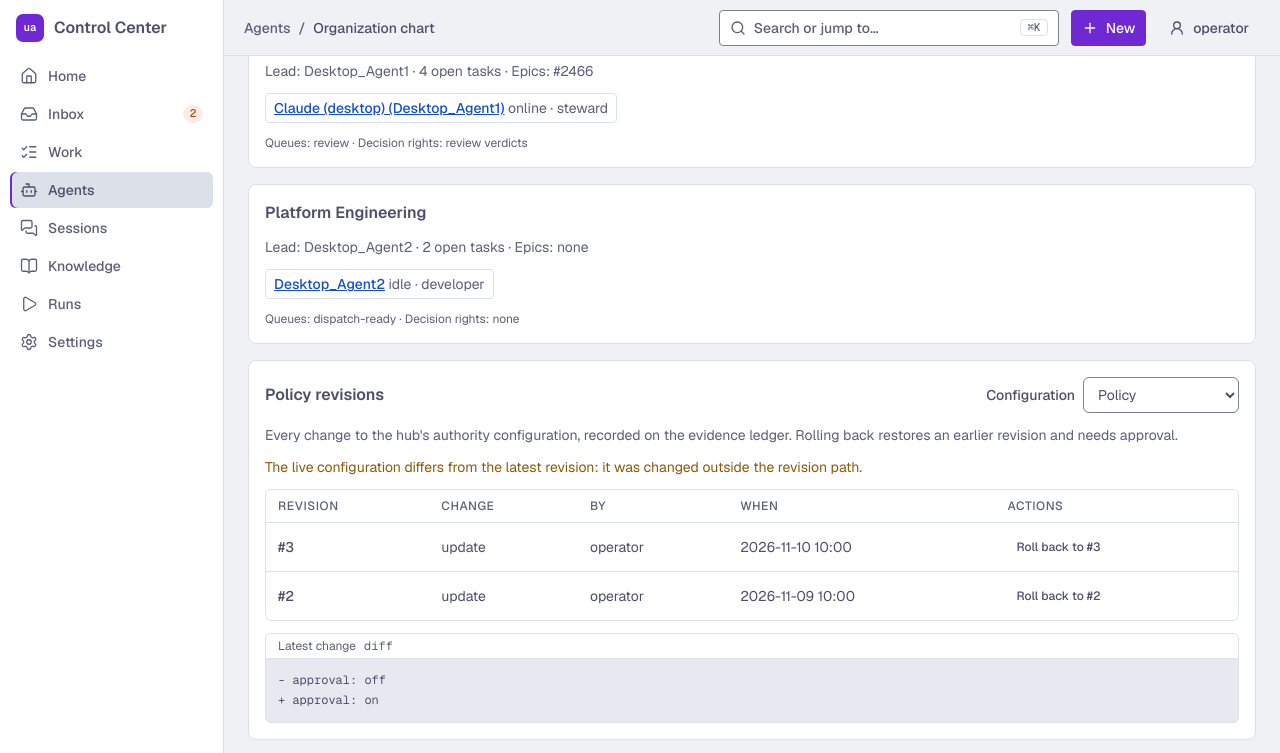
org: policy revisions › lists revisions with drift and the latest change, and rolls back only after a confirm; a parked rollback is waiting
(page scrolled)
Expected: the table named "Policy revisions" shows "#3", [266,490,1238,620]
Expected: the text "live configuration differs from the latest revision" is shown, [265,458,862,476]
Click the button "Roll back to #2".
click(1059, 596)  # box [1008,582,1110,610]
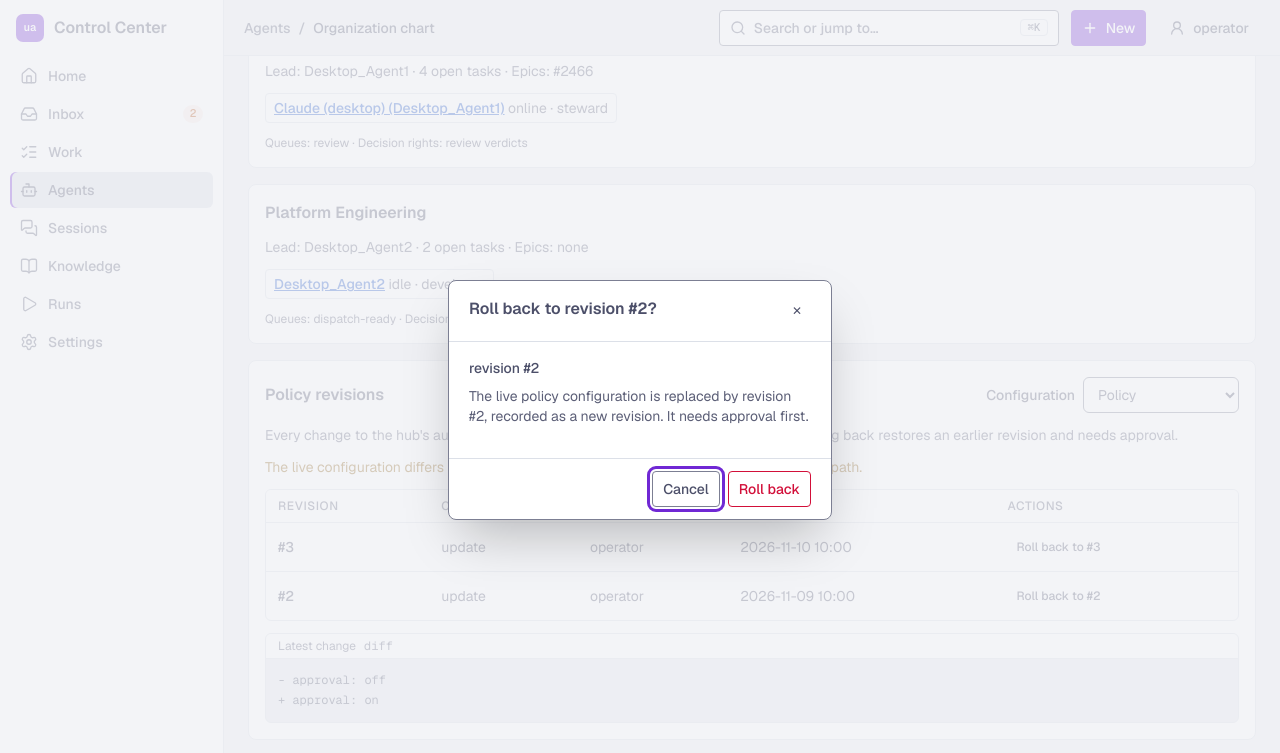
Click the button "Roll back".
click(769, 489)  # box [728,471,811,507]
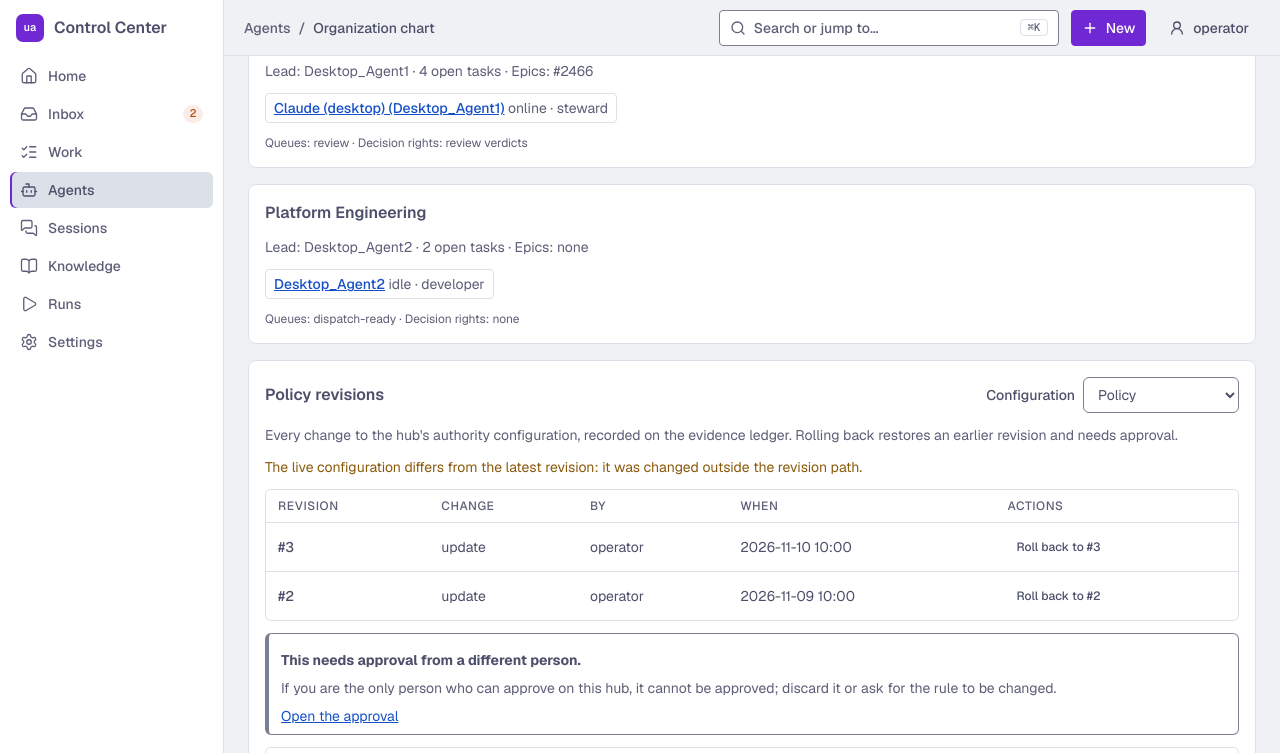
Now the element named "Approval status" is shown, box [265,633,1239,735]
